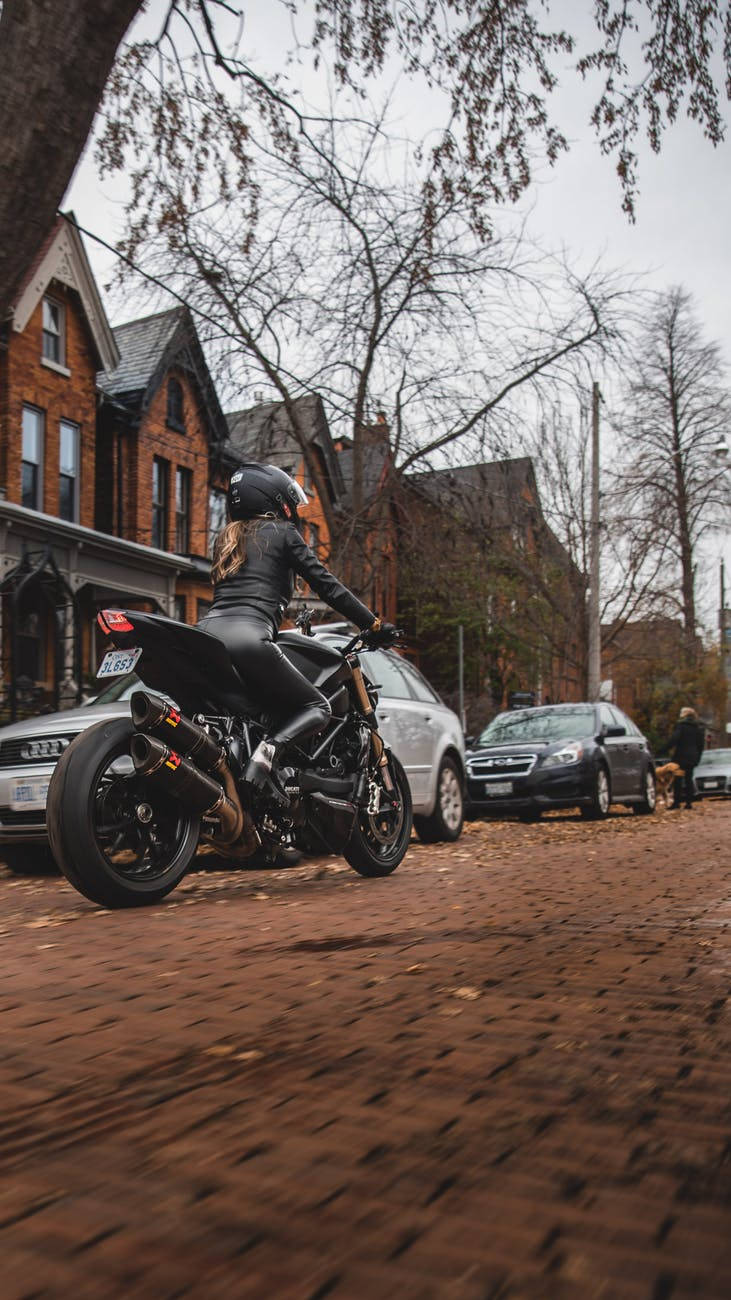helmet: (228, 461, 308, 513)
